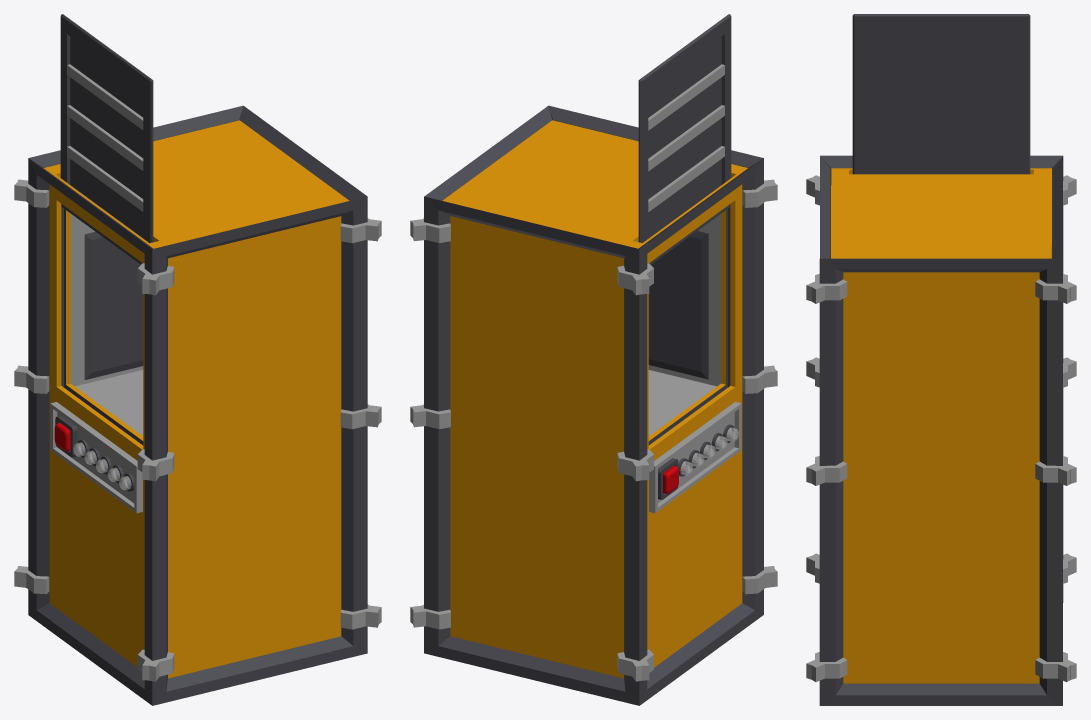
File: DebrisCompactor.fbx
The picture shows the model from 3 angles, left to right: view 1: azimuth 30°, elevation 25°; view 2: azimuth 150°, elevation 25°; view 3: azimuth 270°, elevation 25°; orthographic projection. The views are drawn at different scales.
Parts seen in each view (by area): view 1: Circle.001, Circle.000; view 2: Circle.001, Circle.000; view 3: Circle.001, Circle.000.
Boxes of the visible parts, x1,y1,x2,y2 form: Circle.001: (14,105,381,705); Circle.000: (60,14,153,264); Circle.001: (410,105,777,705); Circle.000: (638,14,731,264); Circle.001: (806,155,1076,705); Circle.000: (852,14,1030,174).
Bounding box in the file's own units: 255 × 622 × 255.
